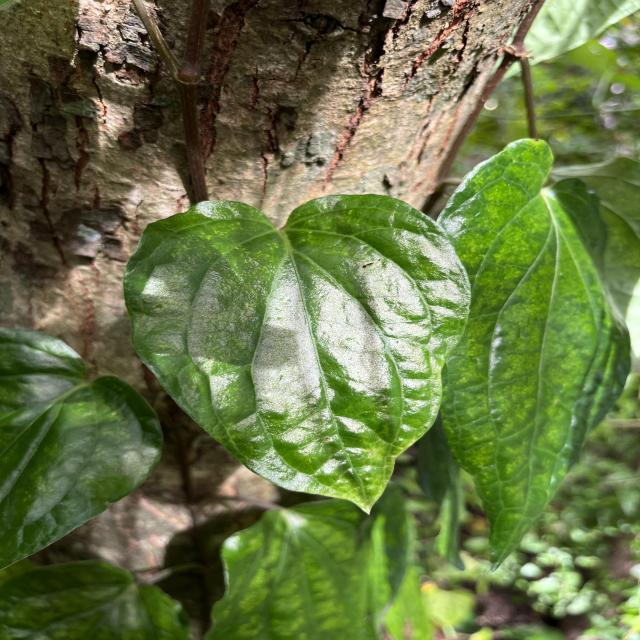Piper betle: (119, 192, 476, 518)
